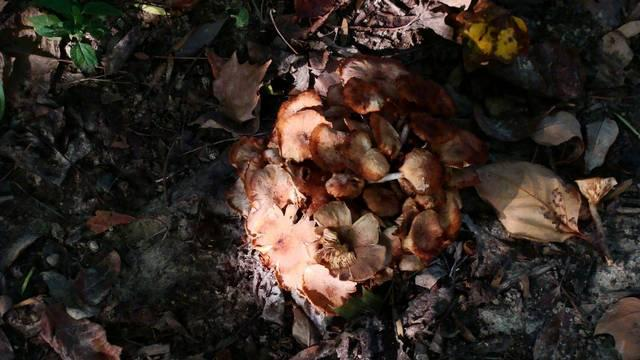edible_mushroom: (230, 52, 484, 331)
